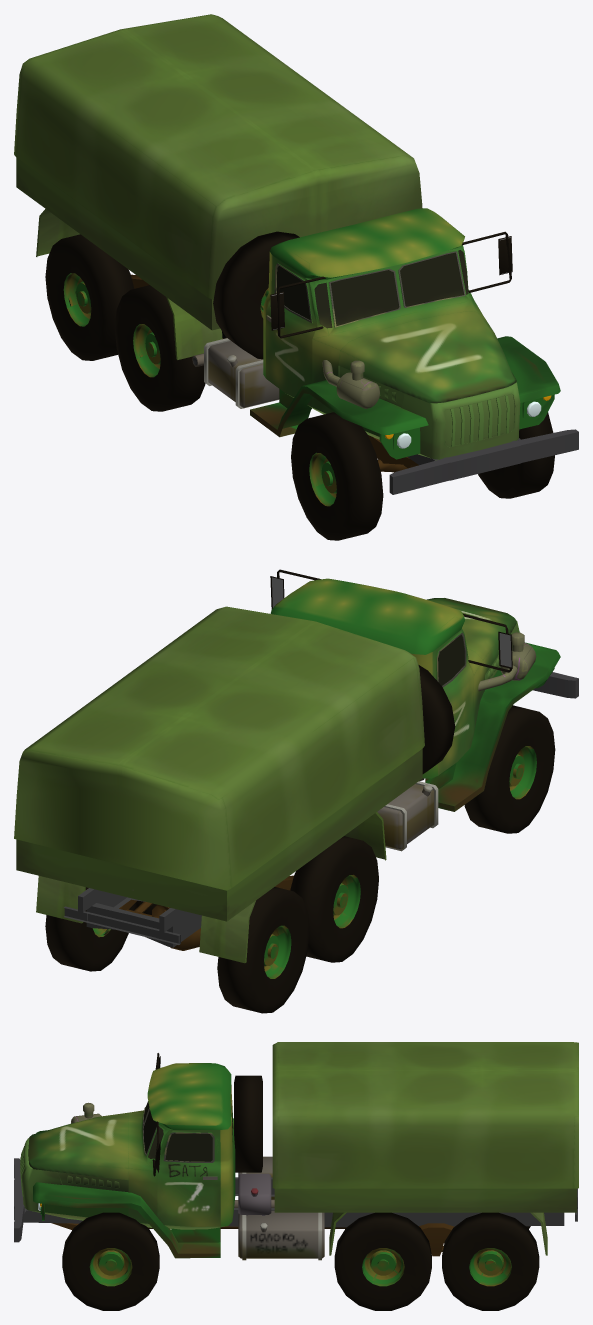
Rendered from ural.fbx.
The picture shows the model from 3 angles, top to bottom: view 1: azimuth 30°, elevation 25°; view 2: azimuth 150°, elevation 25°; view 3: azimuth 270°, elevation 25°; orthographic projection. The views are drawn at different scales.
Parts seen in each view (by area): view 1: тент, кабина, Колесо2, крыша, крылья, радиатор, Колесо6, Колесо4, Запаска, бампер, бенз, Колесо1 (+5 smaller); view 2: тент, крыша, Колесо4, Колесо6, кабина, Колесо2, крылья, силовая, Колесо5, бенз, Запаска, радиатор (+6 smaller); view 3: тент, кабина, Колесо3, Колесо5, Колесо1, крыша, бенз, крылья, радиатор, Запаска, силовая, стена задняя (+7 smaller).
Part boxes in pixels (x1=…): тент: x1=14, y1=14, x2=422, y2=359; кабина: x1=266, y1=245, x2=516, y2=413; Колесо2: x1=291, y1=412, x2=383, y2=540; крыша: x1=269, y1=208, x2=464, y2=279; крылья: x1=250, y1=336, x2=560, y2=459; радиатор: x1=322, y1=360, x2=520, y2=459; Колесо6: x1=45, y1=234, x2=134, y2=360; Колесо4: x1=114, y1=285, x2=205, y2=411; Запаска: x1=213, y1=231, x2=299, y2=359; бампер: x1=389, y1=429, x2=578, y2=494; бенз: x1=204, y1=338, x2=279, y2=408; Колесо1: x1=478, y1=412, x2=554, y2=498; тент: x1=14, y1=606, x2=424, y2=963; крыша: x1=270, y1=578, x2=464, y2=654; Колесо4: x1=290, y1=836, x2=378, y2=962; Колесо6: x1=217, y1=887, x2=309, y2=1013; кабина: x1=427, y1=598, x2=516, y2=775; Колесо2: x1=464, y1=705, x2=555, y2=833; крылья: x1=425, y1=642, x2=560, y2=811; силовая: x1=63, y1=888, x2=201, y2=947; Колесо5: x1=45, y1=887, x2=136, y2=971; бенз: x1=377, y1=781, x2=438, y2=851; Запаска: x1=418, y1=665, x2=455, y2=773; радиатор: x1=478, y1=620, x2=536, y2=691; тент: x1=272, y1=1042, x2=578, y2=1255; кабина: x1=28, y1=1101, x2=220, y2=1226; Колесо3: x1=334, y1=1212, x2=431, y2=1310; Колесо5: x1=442, y1=1212, x2=539, y2=1310; Колесо1: x1=62, y1=1212, x2=159, y2=1310; крыша: x1=147, y1=1063, x2=231, y2=1129; бенз: x1=238, y1=1156, x2=324, y2=1260; крылья: x1=33, y1=1130, x2=220, y2=1258; радиатор: x1=20, y1=1102, x2=128, y2=1217; Запаска: x1=234, y1=1075, x2=262, y2=1172; силовая: x1=23, y1=1177, x2=577, y2=1227; стена задняя: x1=220, y1=1085, x2=235, y2=1226.
Size of the model in its own units: 281 by 292 by 737.
